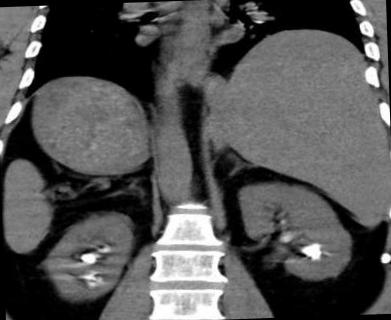Tas_Var: (67, 270, 104, 290), (298, 240, 326, 263), (78, 250, 100, 268), (276, 229, 296, 247), (272, 216, 290, 227), (97, 242, 112, 254), (82, 274, 92, 280)
